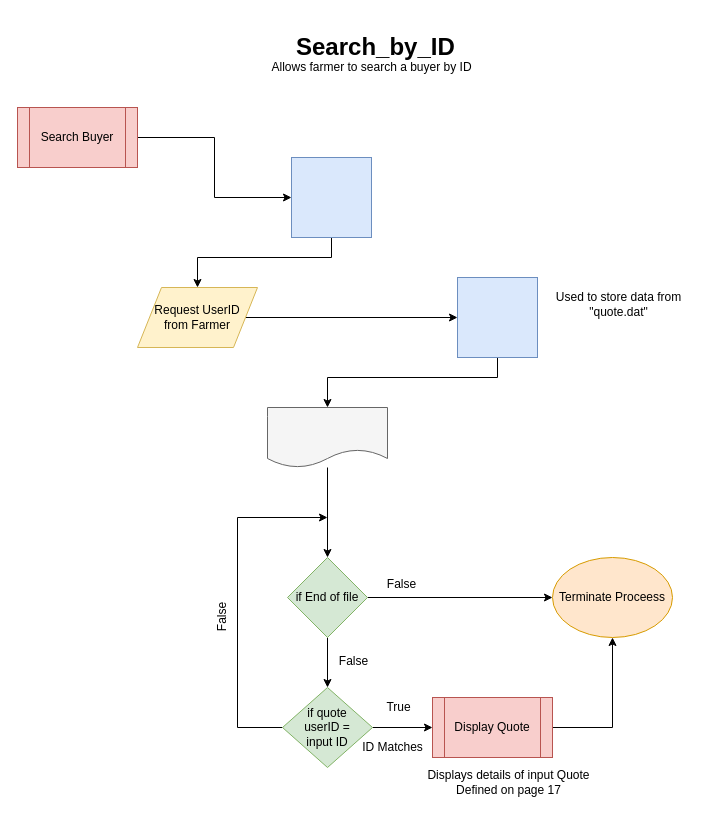
This 706x814 diagram has some shape labels left out. The shapes that lost their labels are listed below. From the top down, each one's centre as x and y in pixels, then its label:
(x=331, y=197): Clear console
(x=497, y=317): Initialize buyer_quotes object "quote"
(x=327, y=437): Open "quote.dat"
